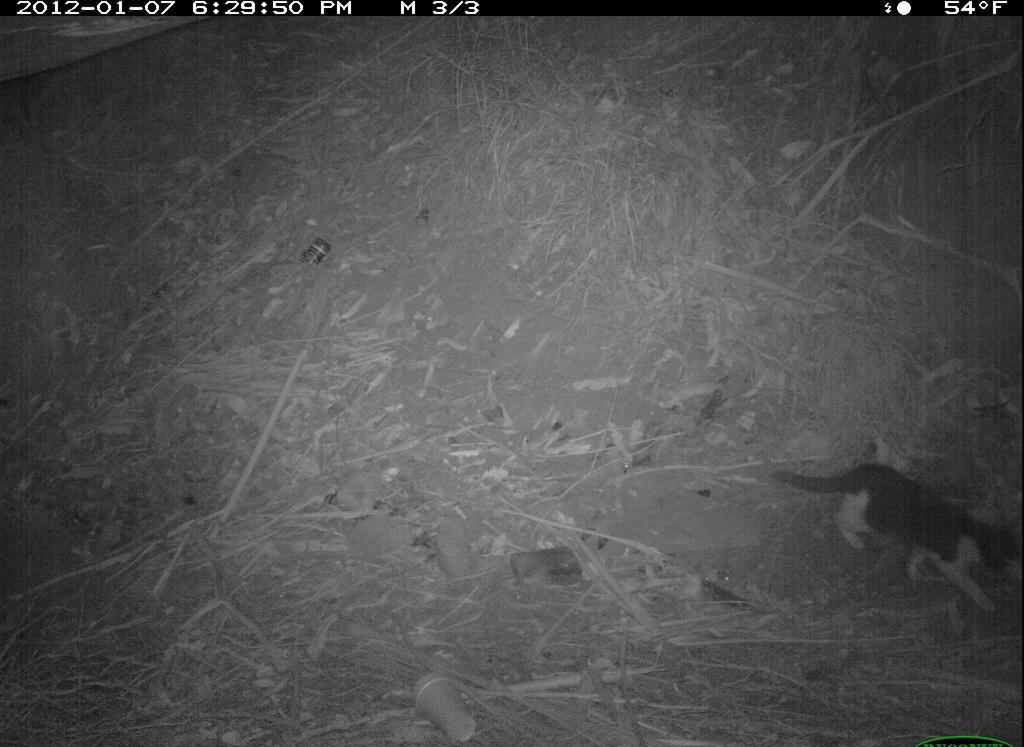cat: (749, 434, 1010, 632)
